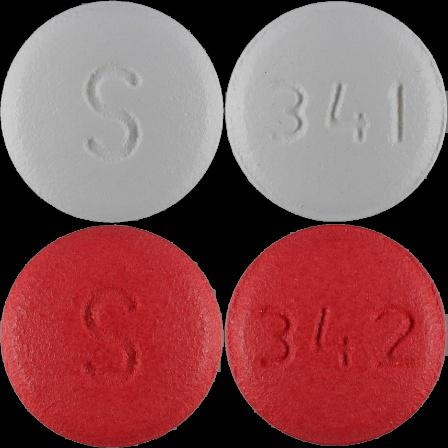43547-335: (0, 0, 224, 224)
